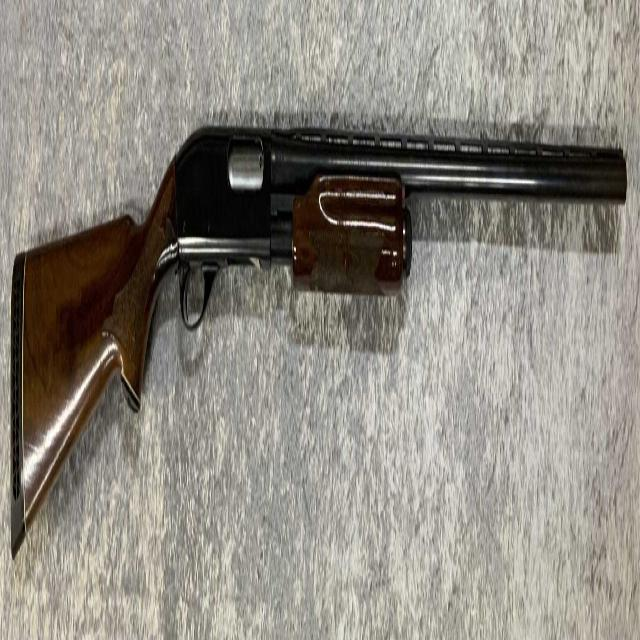ShotGun: (10, 125, 630, 563)
